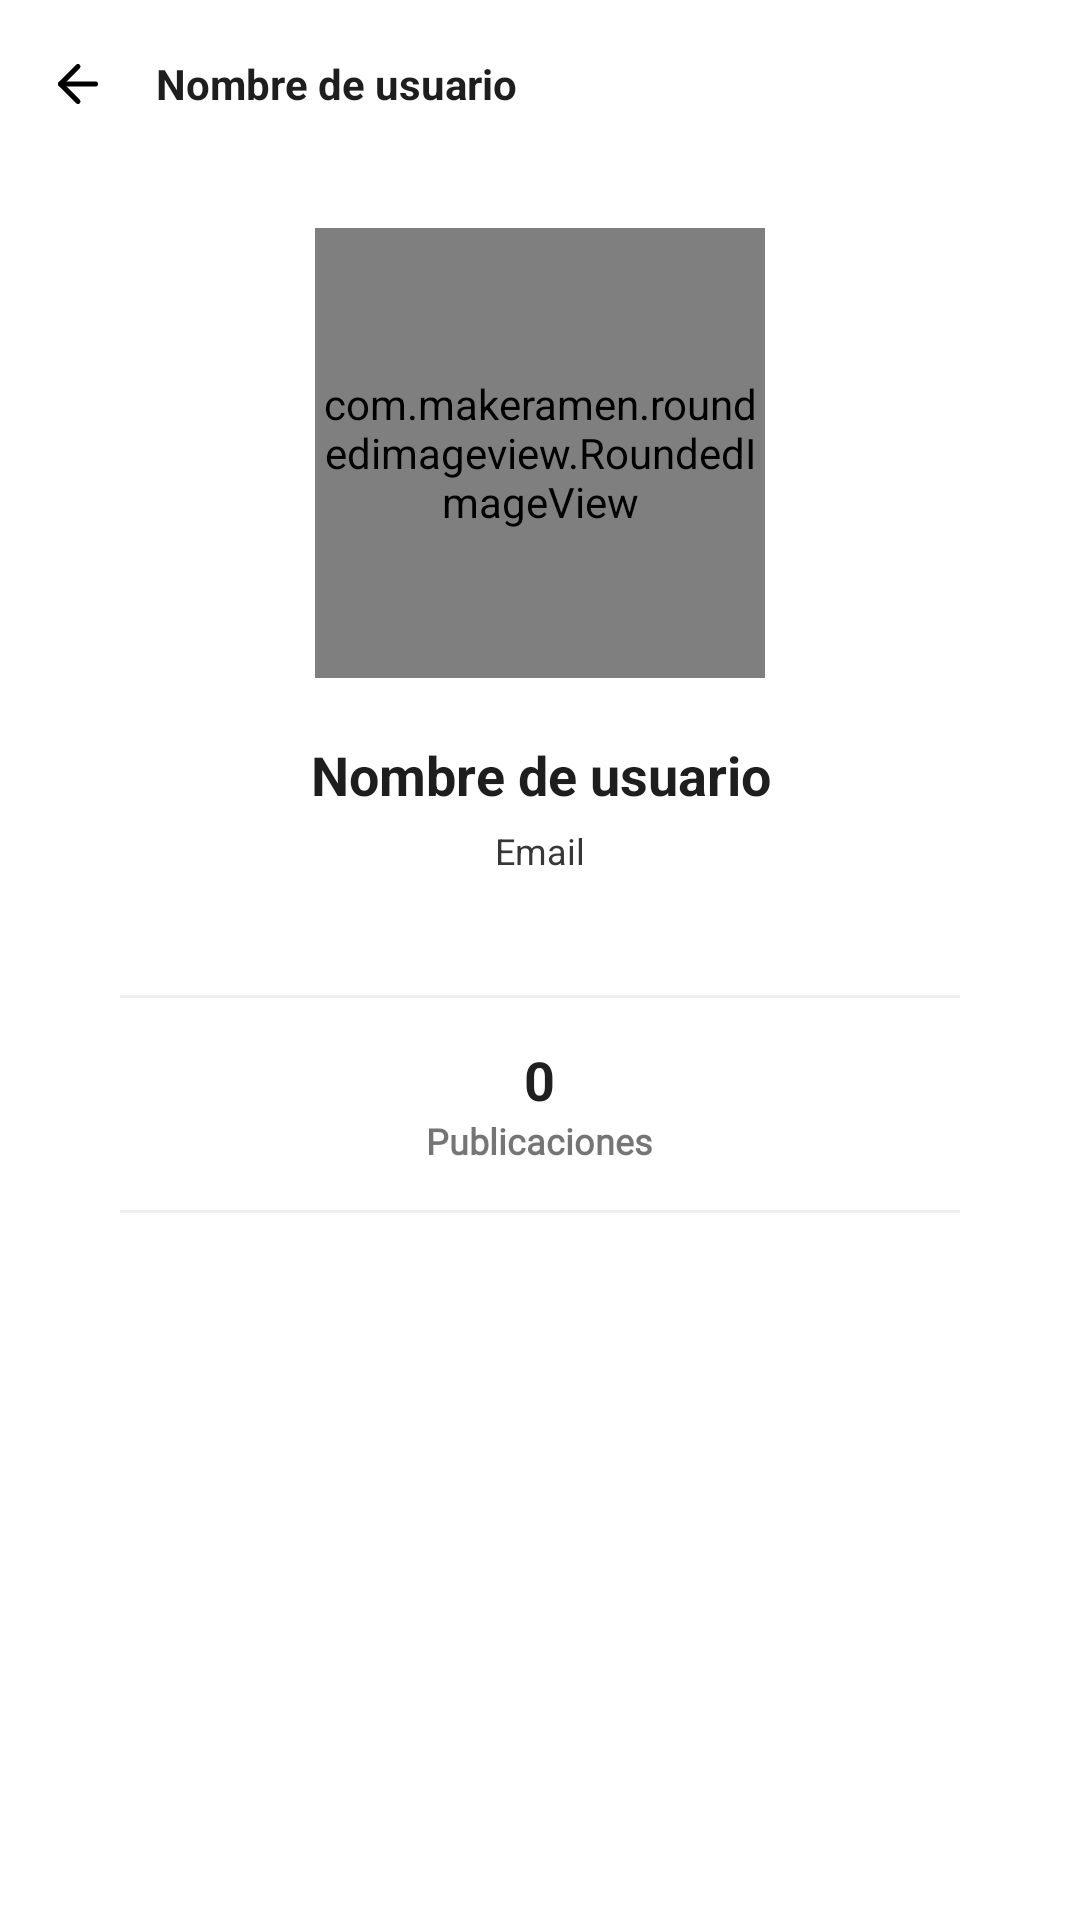

Point at icon controls on the screen. Image size 1080x1920, points as [x,y].
arrow: [78,84]
